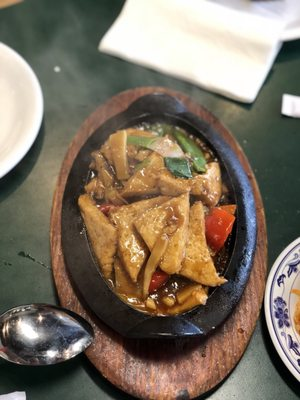salad: (0, 303, 94, 367)
sushi: (65, 93, 265, 351), (0, 40, 45, 185)
